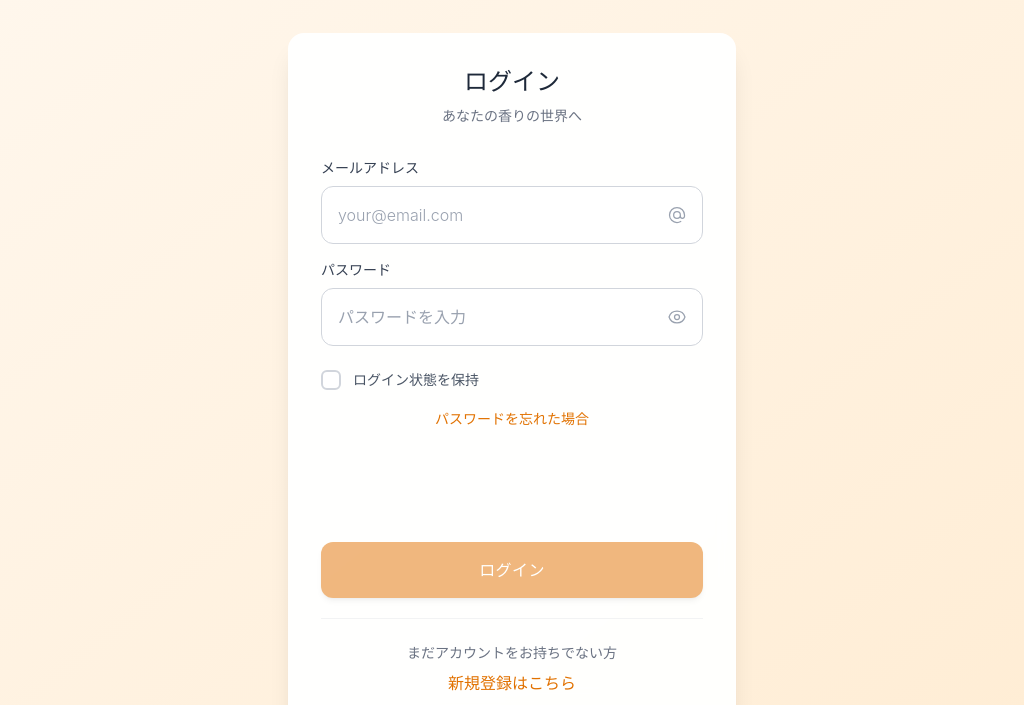
Test: AuthPage › 基本表示 › ログインモードに戻ることができる
Note: 新規登録モードに切り替え
Click the button "新規登録はこちら": (512, 683) [448,671,576,695]
(page scrolled)
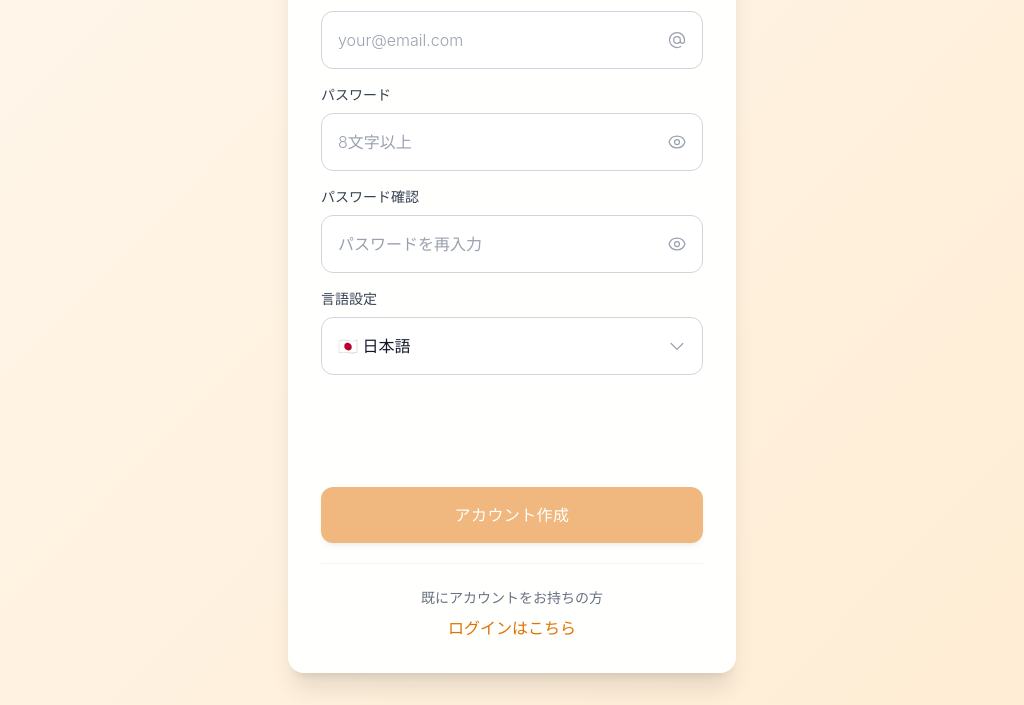
Note: ログインリンクをクリック
Click the button "ログインはこちら": (512, 628) [448,616,576,640]
(page scrolled)
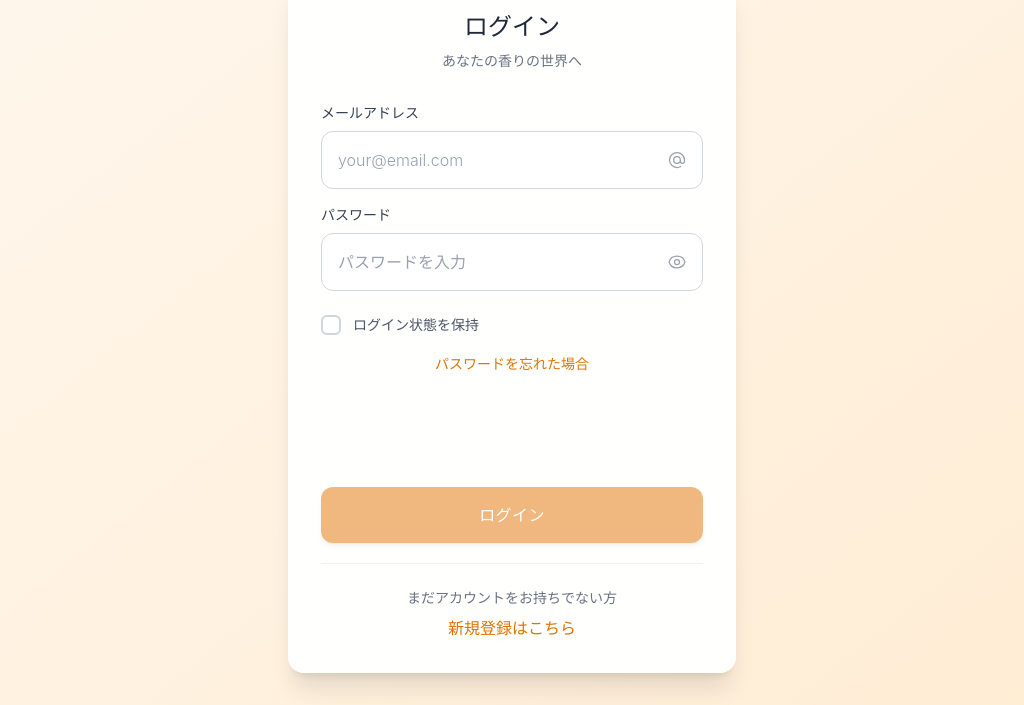
Now the button "ログイン" is shown, box [321,487,703,543]
